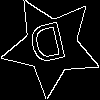D: (26, 21, 71, 73)
